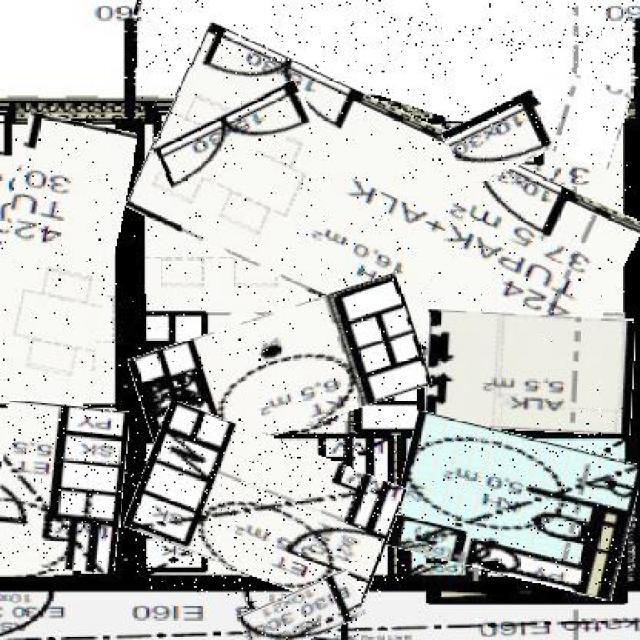door: (156, 95, 316, 174), (448, 100, 554, 180), (240, 580, 365, 640)
zone: (135, 68, 634, 363), (132, 0, 634, 131), (131, 420, 398, 595), (132, 294, 428, 451), (392, 423, 637, 588), (0, 116, 125, 407), (428, 312, 634, 431), (0, 403, 125, 571)
